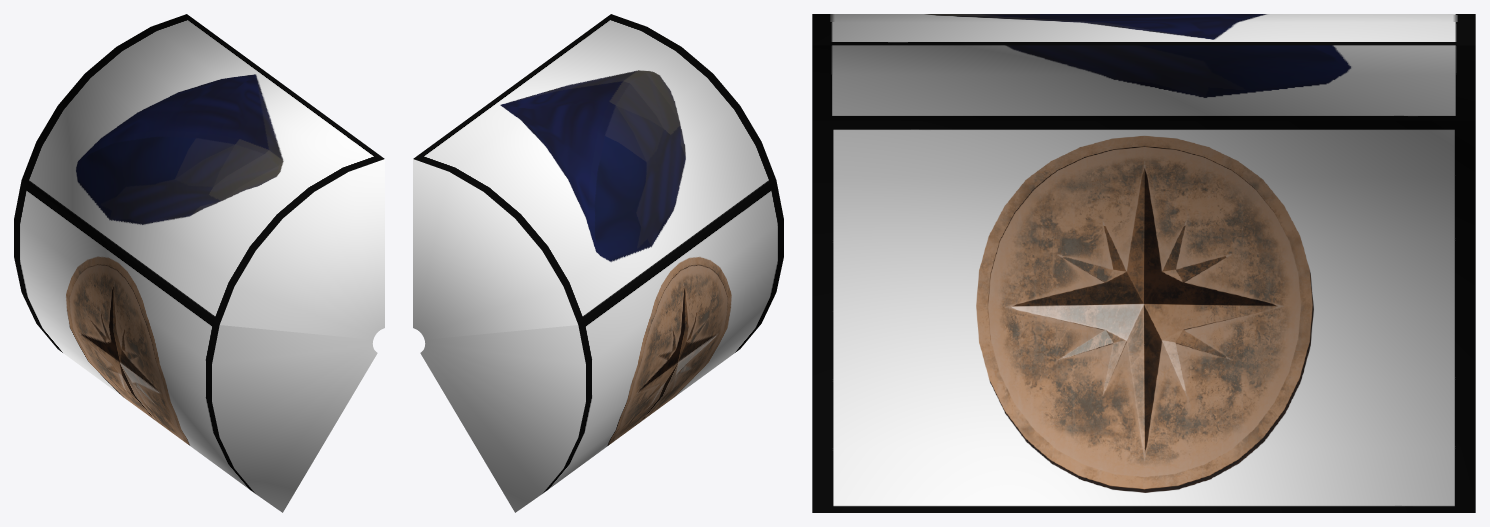
Rendered from roulette 1.fbx.
The picture shows the model from 3 angles, left to right: view 1: azimuth 30°, elevation 25°; view 2: azimuth 150°, elevation 25°; view 3: azimuth 270°, elevation 25°; orthographic projection. The views are drawn at different scales.
Parts seen in each view (by area): view 1: roulette02, roulette03; view 2: roulette02, roulette03; view 3: roulette03, roulette02.
Part boxes in pixels (x1,y1,x2,y2): roulette02: (21, 14, 384, 339); roulette03: (14, 180, 377, 512); roulette02: (413, 14, 776, 339); roulette03: (420, 180, 783, 512); roulette03: (812, 120, 1475, 512); roulette02: (812, 14, 1475, 120).
Size of the model in its own units: 67.55 by 123 by 134.
